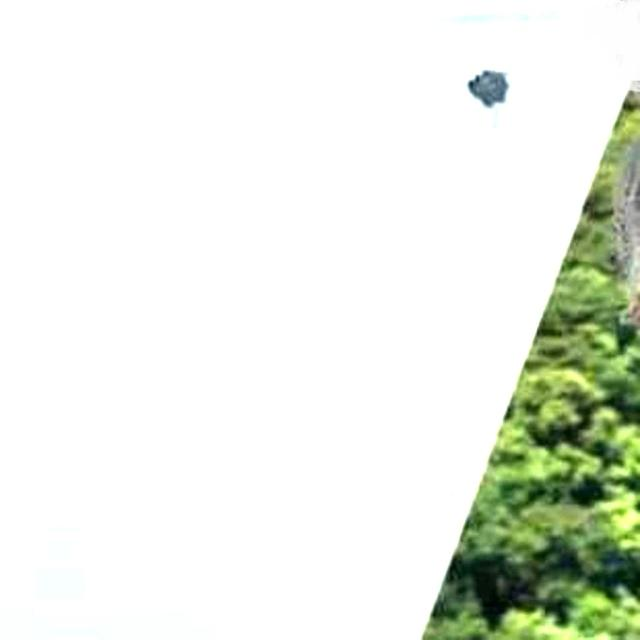corrosion: (460, 64, 513, 113)
